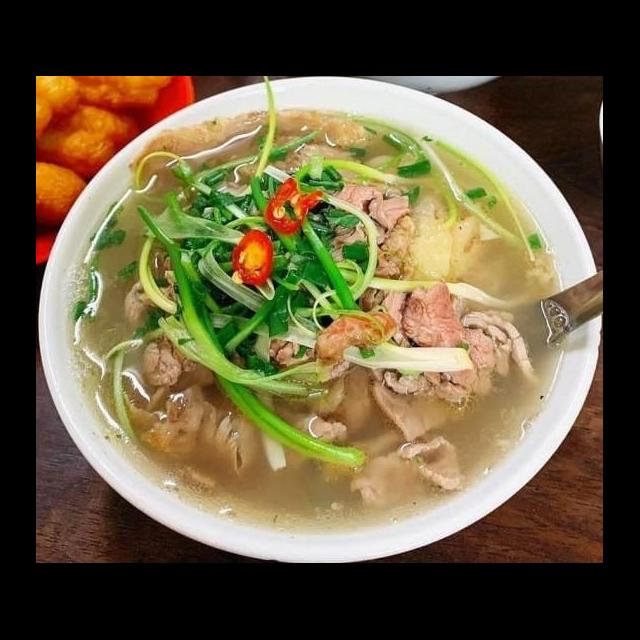thit bo: (352, 192, 508, 408), (116, 377, 264, 488), (202, 130, 364, 220), (398, 274, 502, 408), (118, 272, 224, 396), (300, 174, 416, 274), (346, 430, 466, 520), (258, 318, 360, 391), (264, 400, 354, 476)
